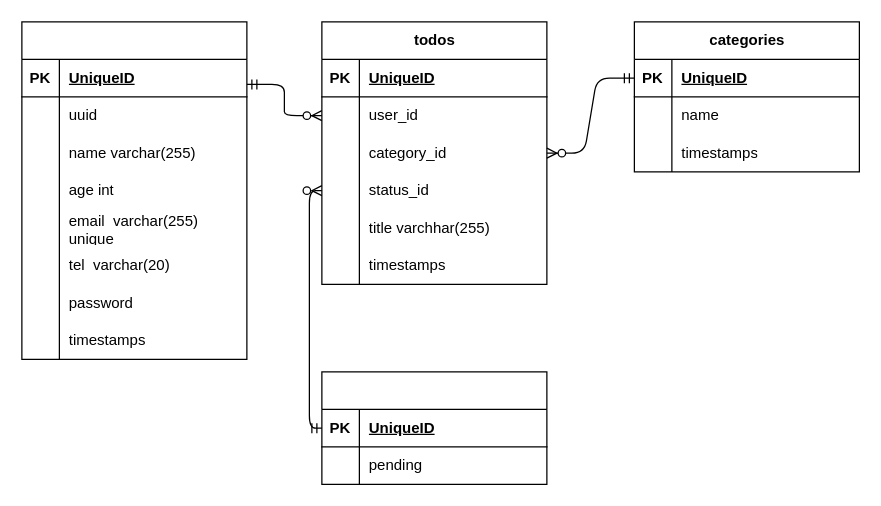
The diagram is 881 pixels wide and 506 high, and some of its shapes have lost their labels. Here are the shapes that lost their labels. From the top down, the box of each, then its label:
(21, 21, 247, 359): users
(321, 371, 547, 484): statuses
